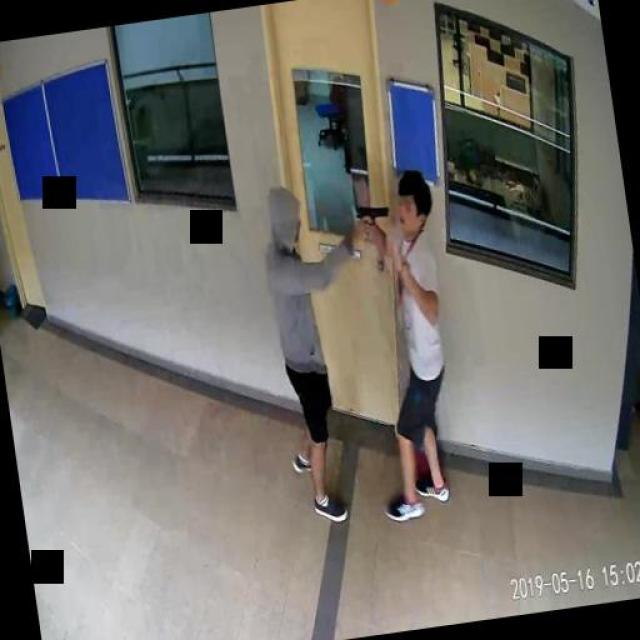gun: (354, 200, 391, 239)
